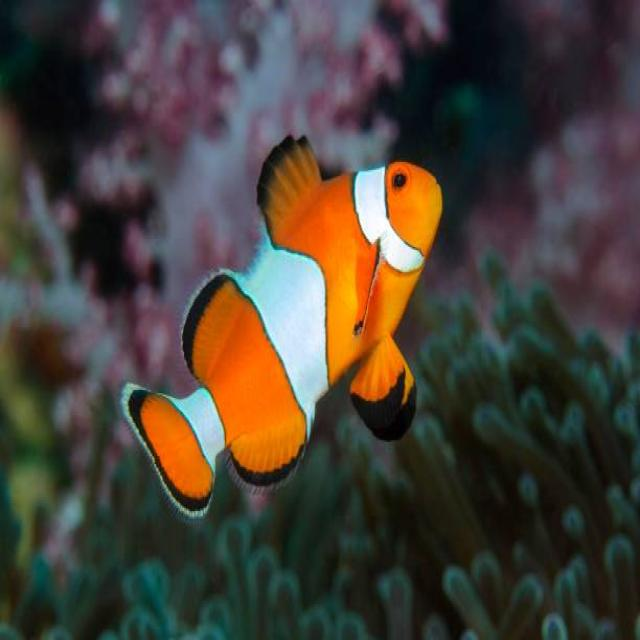ClownFish: (122, 134, 444, 517)
